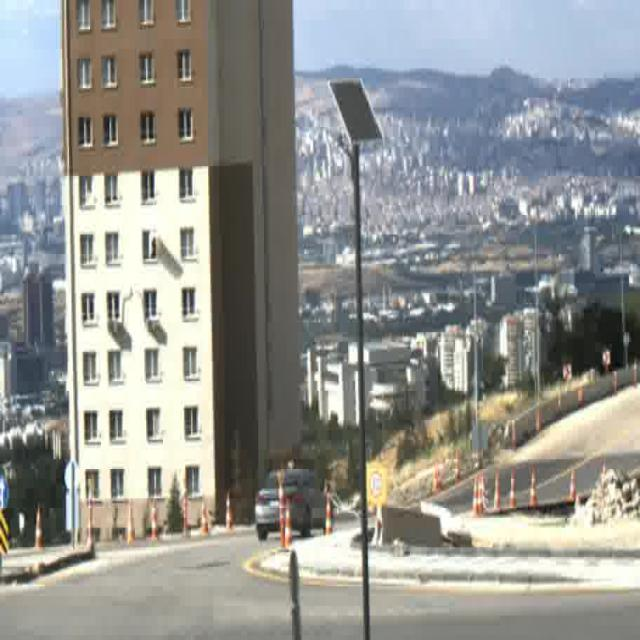Car: (254, 472, 335, 539)
